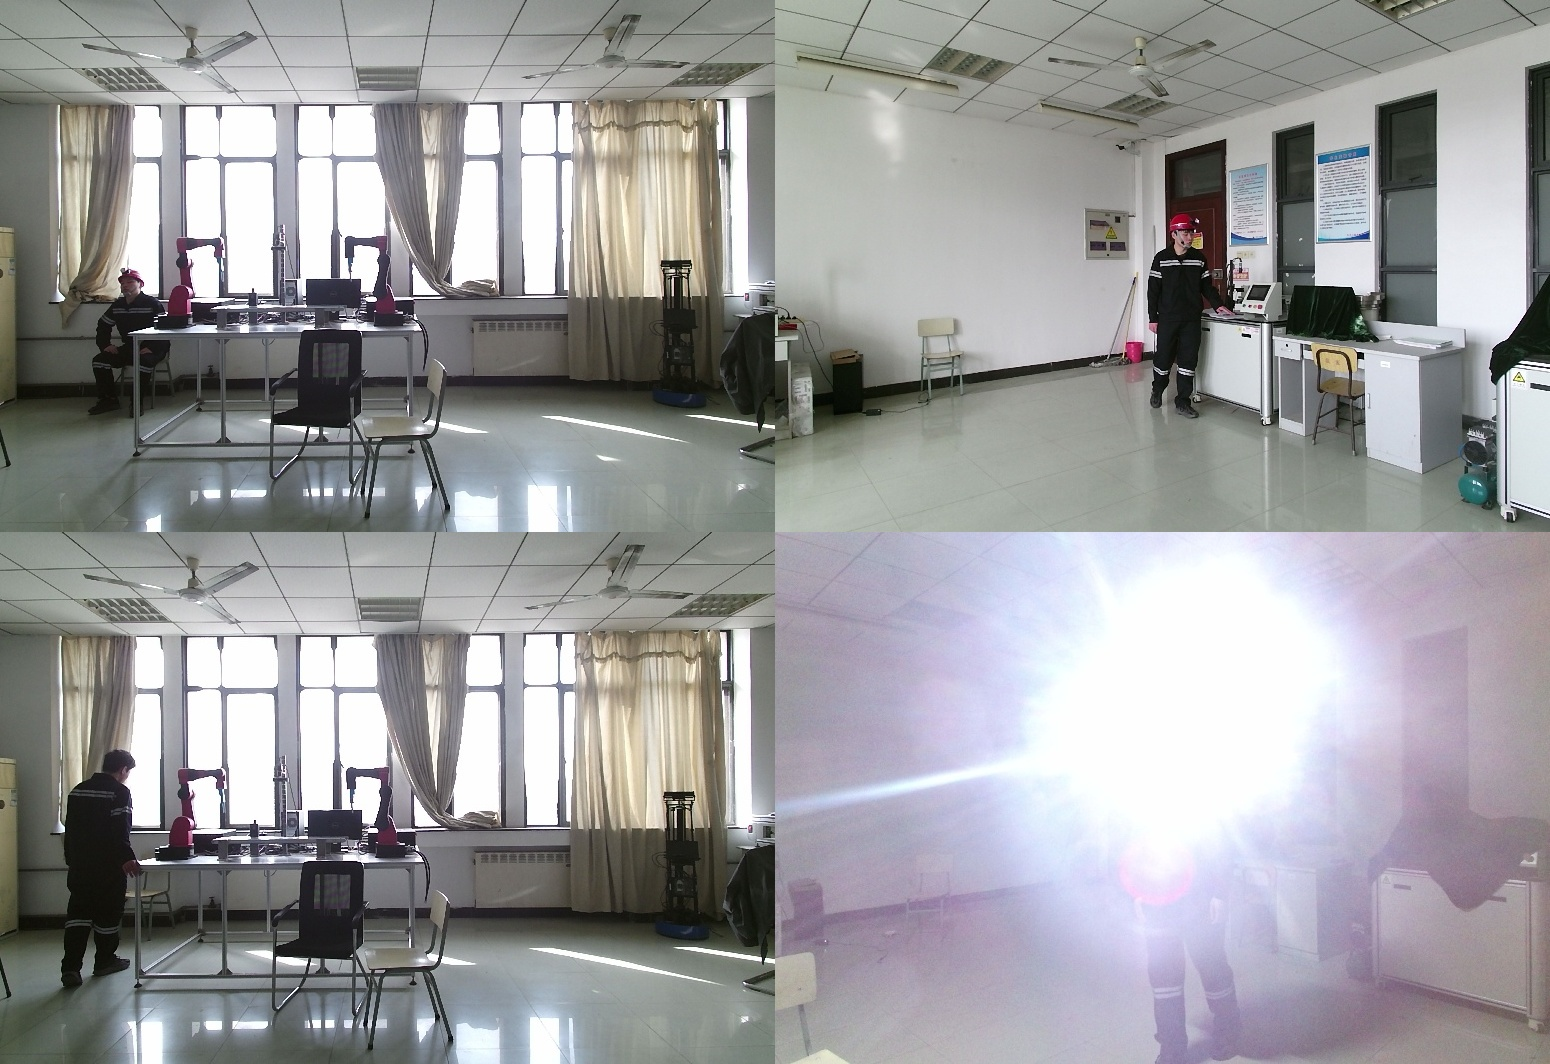person: (1132, 710, 1257, 1064), (56, 749, 143, 985), (1143, 215, 1226, 420), (80, 270, 179, 415)
